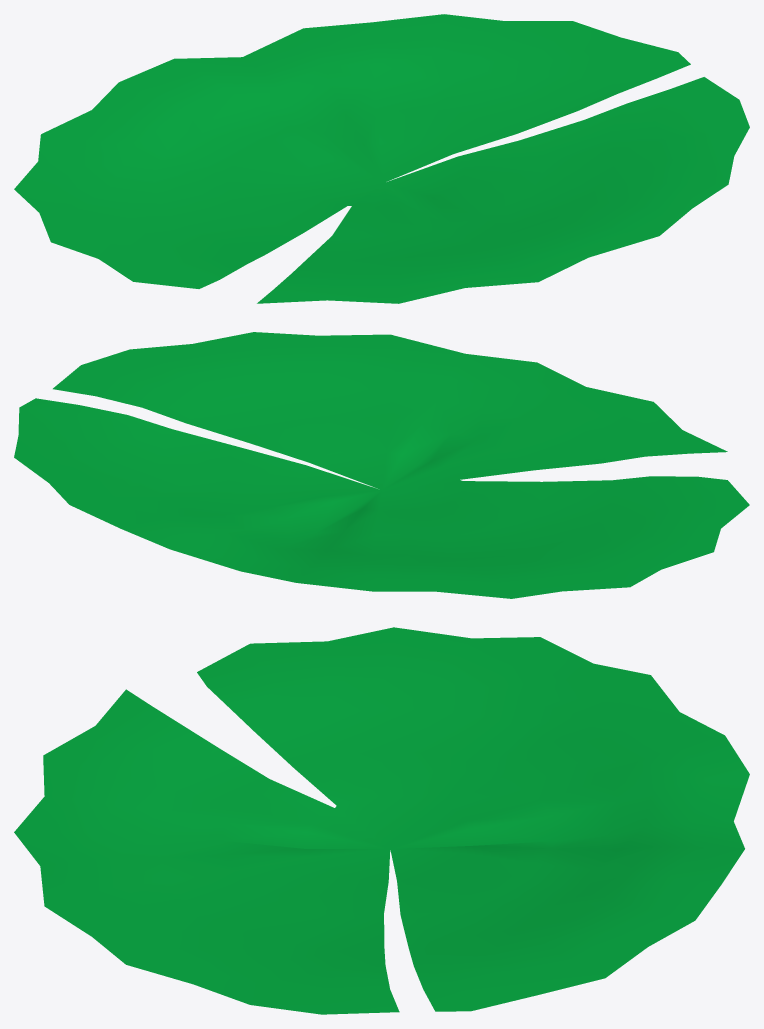
The model's file is LousLeaf_04.fbx.
3 renders of one model, top to bottom at view 1: azimuth 30°, elevation 25°; view 2: azimuth 150°, elevation 25°; view 3: azimuth 270°, elevation 25°, orthographic. The views are drawn at different scales.
Parts seen in each view (by area): view 1: LousLeaf_4; view 2: LousLeaf_4; view 3: LousLeaf_4.
Part boxes in pixels (<box>): LousLeaf_4: <box>14,14,749,303</box>; LousLeaf_4: <box>14,332,749,598</box>; LousLeaf_4: <box>14,627,749,1014</box>.
Bounding box in the file's own units: 3.77 × 0.1798 × 2.99.
